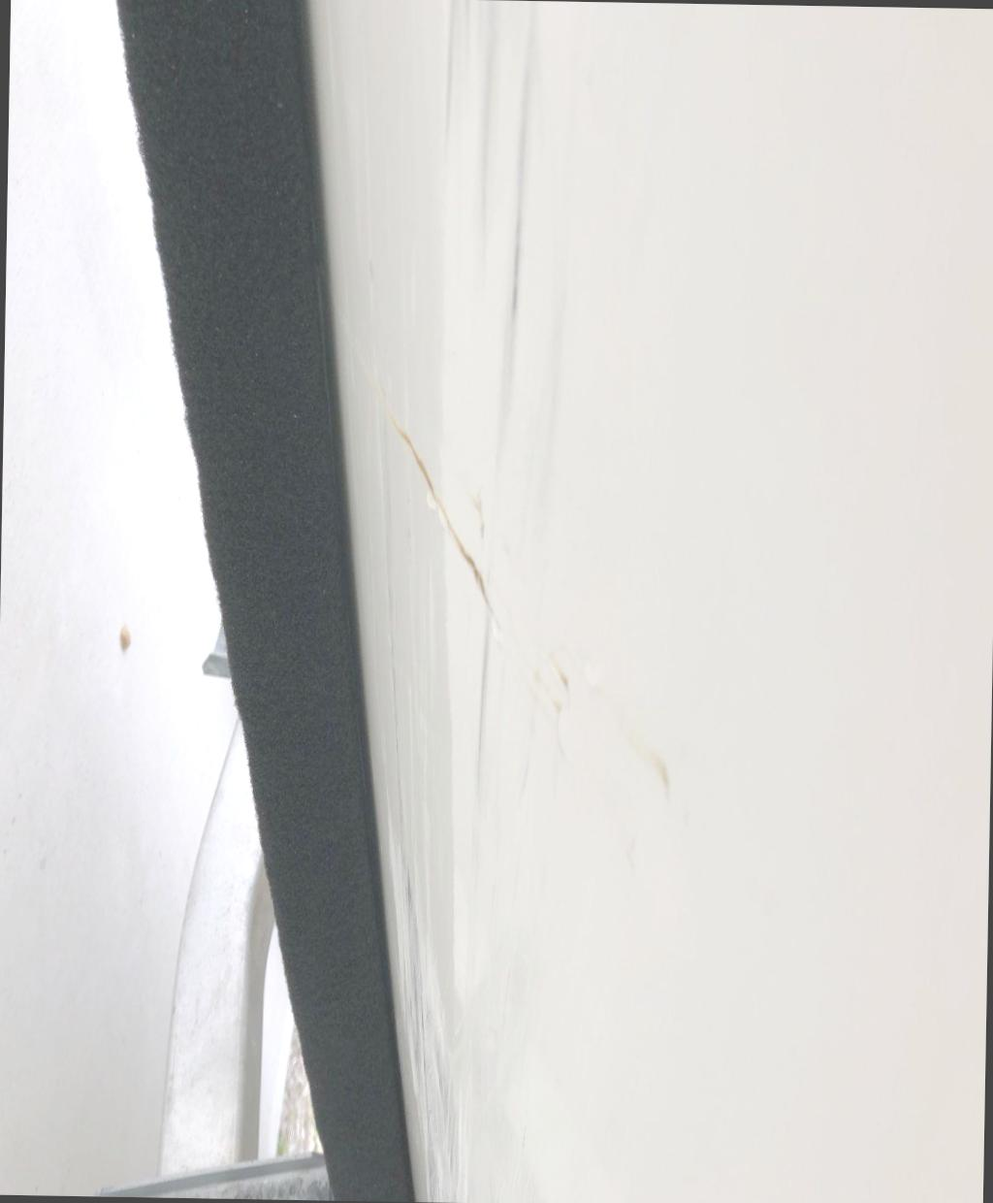crack: (395, 433, 499, 616)
